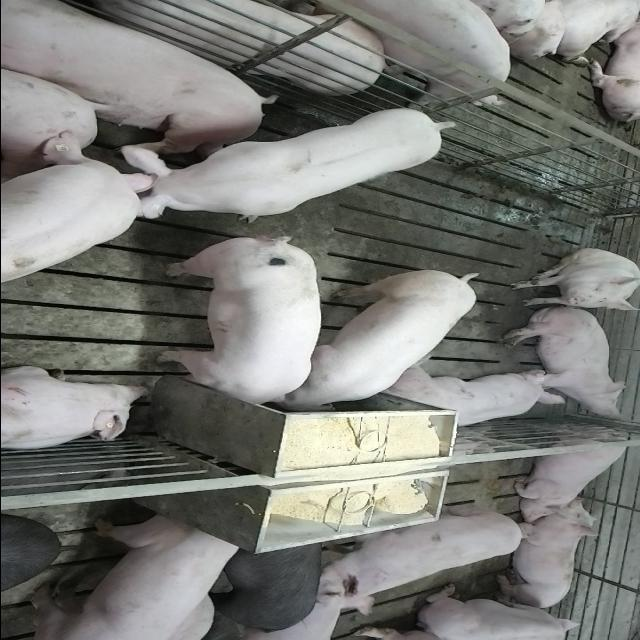Feeding: (272, 264, 480, 412), (155, 241, 321, 415)
Lateral_lying: (0, 5, 273, 157), (499, 304, 629, 418)
Sitting: (502, 426, 636, 514), (506, 248, 638, 311)
Standing: (101, 105, 452, 221), (74, 0, 384, 92), (22, 514, 246, 638), (286, 0, 518, 106), (318, 512, 534, 614), (0, 153, 151, 285), (198, 542, 325, 636)
Sternal_lying: (0, 365, 151, 453), (382, 367, 567, 431), (490, 506, 601, 611), (413, 584, 584, 638)
